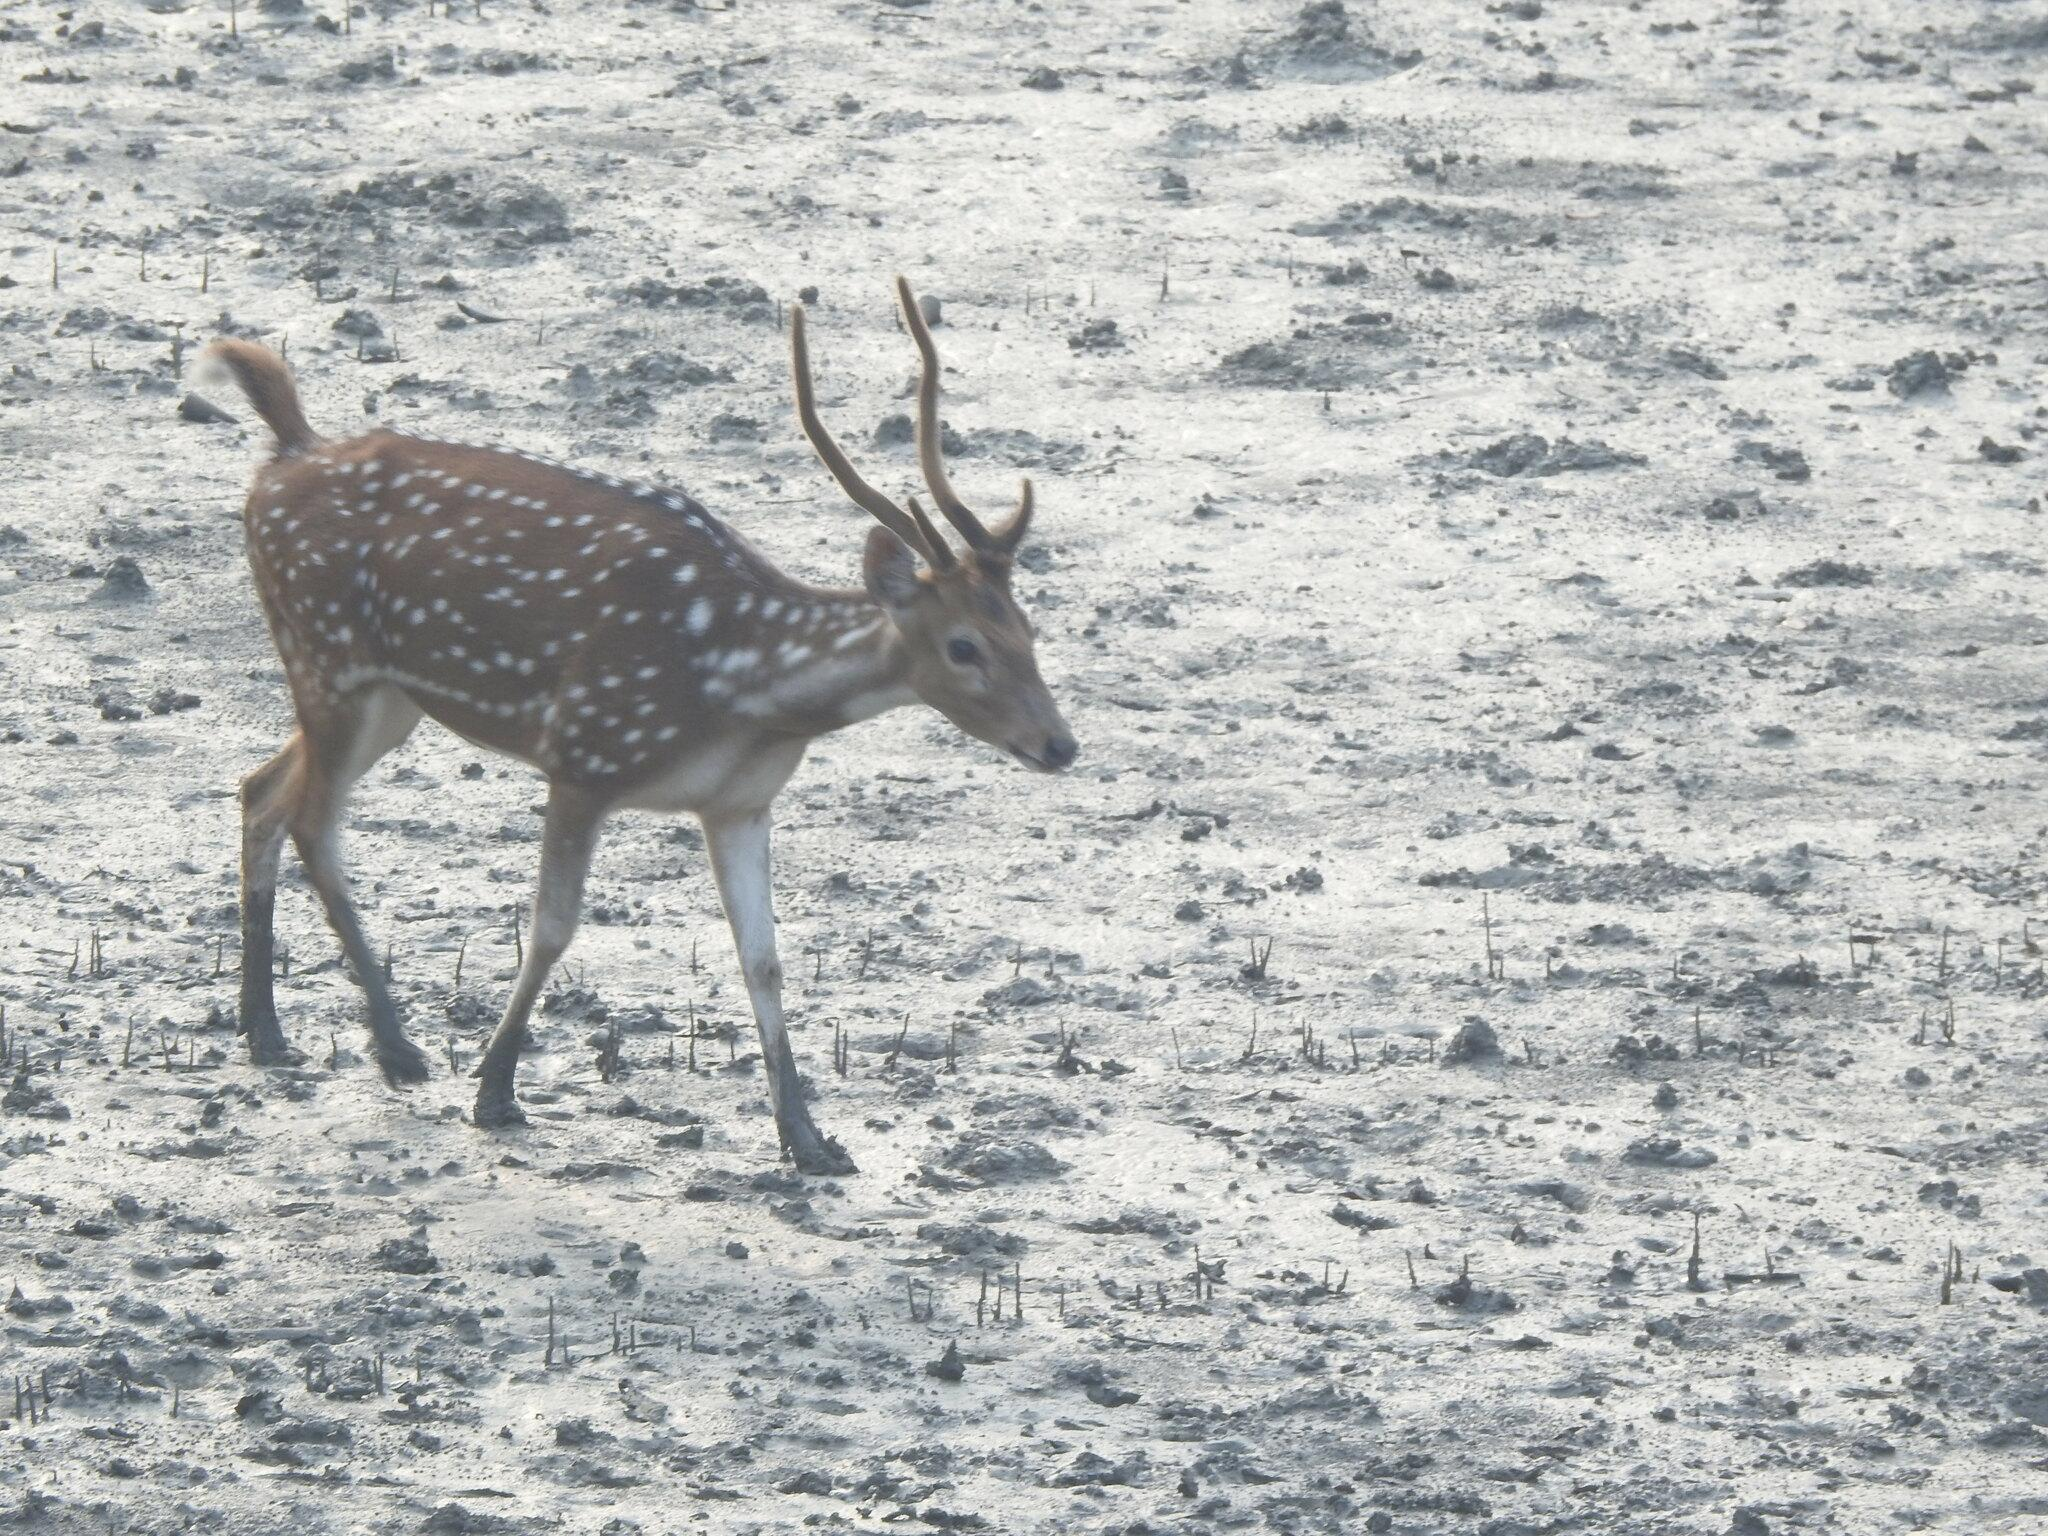Deer: (205, 278, 1077, 1171)
